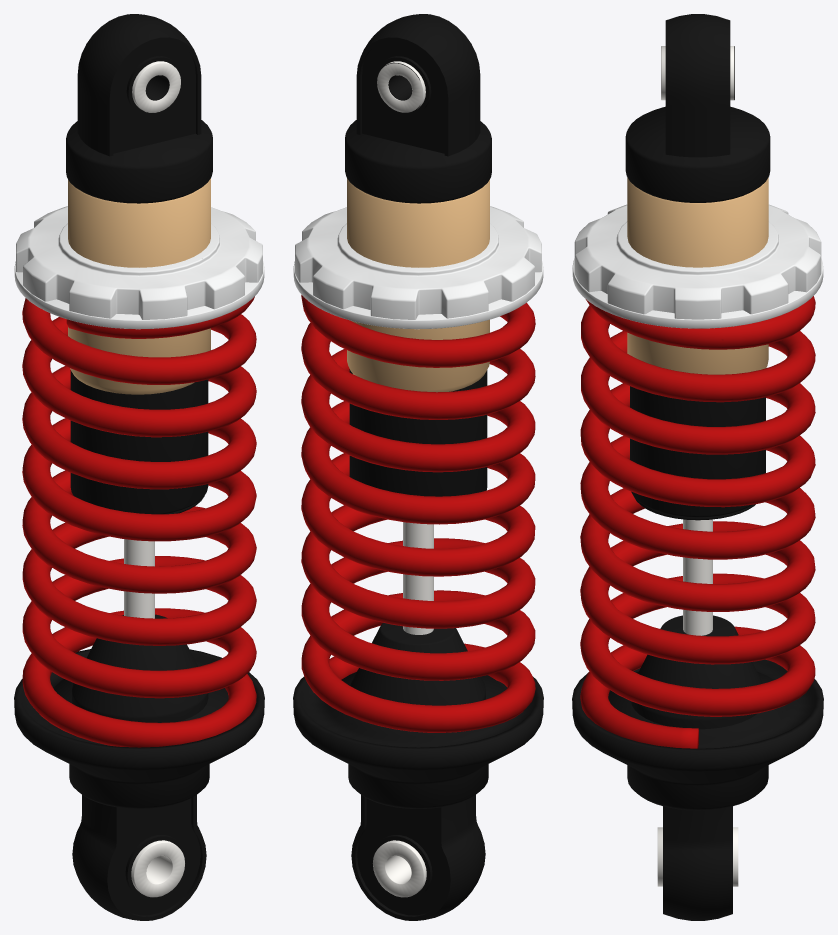
The picture shows the model from 3 angles, left to right: view 1: azimuth 30°, elevation 25°; view 2: azimuth 150°, elevation 25°; view 3: azimuth 270°, elevation 25°; orthographic projection.
Parts seen in each view (by area): view 1: opruga_low_test_0, lock nut_low_test_0, spring seat_low_test_0, navoj_low_test_0, mount2_low, mount_low_test_0, case_low_test_0, top2_low_test_0, bump stop_low_test_0, lezajevi_low_test_0, lock nut pt2_low_test_0, osovina_low_test_0; view 2: opruga_low_test_0, lock nut_low_test_0, spring seat_low_test_0, navoj_low_test_0, mount2_low, mount_low_test_0, top2_low_test_0, case_low_test_0, bump stop_low_test_0, lezajevi_low_test_0, lock nut pt2_low_test_0, osovina_low_test_0; view 3: opruga_low_test_0, lock nut_low_test_0, spring seat_low_test_0, navoj_low_test_0, mount2_low, top2_low_test_0, case_low_test_0, mount_low_test_0, bump stop_low_test_0, lock nut pt2_low_test_0, osovina_low_test_0, lezajevi_low_test_0.
Part boxes in pixels (x1,y1,x2,y2): opruga_low_test_0: (22,296,256,747); lock nut_low_test_0: (16,206,262,319); spring seat_low_test_0: (14,649,264,808); navoj_low_test_0: (68,178,210,394); mount2_low: (77,14,201,156); mount_low_test_0: (72,795,206,920); case_low_test_0: (70,370,208,514); top2_low_test_0: (66,120,212,203); bump stop_low_test_0: (72,614,208,722); lezajevi_low_test_0: (131,61,184,897); lock nut pt2_low_test_0: (14,261,264,329); osovina_low_test_0: (124,539,154,618); opruga_low_test_0: (301,295,535,732); lock nut_low_test_0: (295,206,541,319); spring seat_low_test_0: (293,672,543,808); navoj_low_test_0: (347,178,489,392); mount2_low: (356,14,480,156); mount_low_test_0: (351,795,485,920); top2_low_test_0: (345,120,491,203); case_low_test_0: (349,369,487,496); bump stop_low_test_0: (350,623,485,705); lezajevi_low_test_0: (373,61,426,897); lock nut pt2_low_test_0: (293,261,543,329); osovina_low_test_0: (403,522,433,634); opruga_low_test_0: (580,296,815,748); lock nut_low_test_0: (574,204,821,319); spring seat_low_test_0: (572,659,823,810); navoj_low_test_0: (627,177,768,374); mount2_low: (665,14,730,157); top2_low_test_0: (625,106,770,202); case_low_test_0: (630,386,765,517); mount_low_test_0: (663,806,732,920); bump stop_low_test_0: (631,615,762,729); lock nut pt2_low_test_0: (572,259,823,328); osovina_low_test_0: (683,519,712,635); lezajevi_low_test_0: (657,46,738,886).
Bounding box in the file's own units: 0.1003 × 0.3933 × 0.1003.
1 material, 1 textured.
